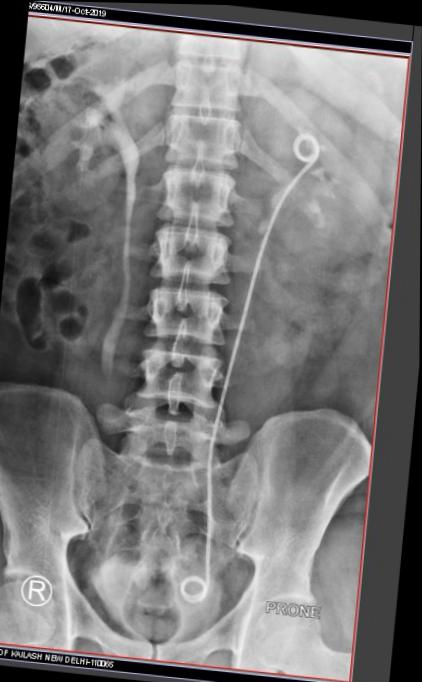bladder: (82, 553, 236, 650)
left kidney: (246, 75, 393, 284)
right kidney: (16, 35, 159, 227)
vertebrae: (154, 166, 240, 230)
